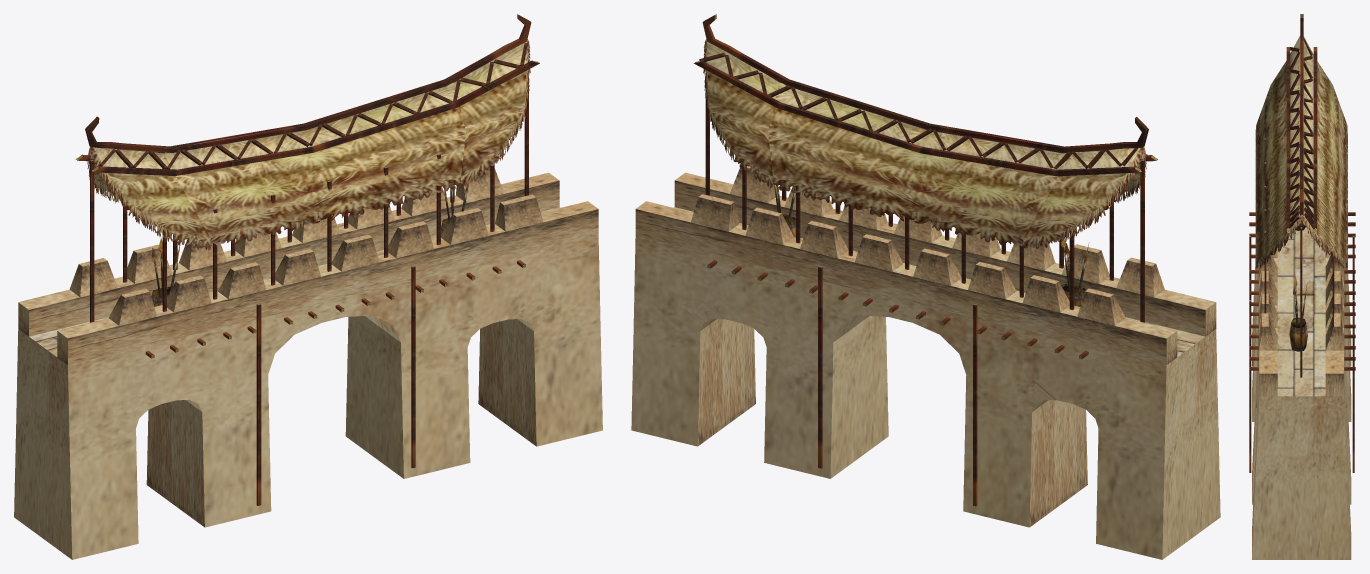
Rendered from wall_gate.dae.
3 renders of one model, left to right at view 1: azimuth 30°, elevation 25°; view 2: azimuth 150°, elevation 25°; view 3: azimuth 270°, elevation 25°, orthographic. The views are drawn at different scales.
Parts seen in each view (by area): view 1: wall_gate; view 2: wall_gate; view 3: wall_gate.
Boxes of the visible parts, x1,y1,x2,y2 form: wall_gate: (14, 14, 602, 559); wall_gate: (631, 14, 1220, 559); wall_gate: (1249, 14, 1355, 559).
Size of the model in its own units: 37.61 by 7.65 by 27.62.
